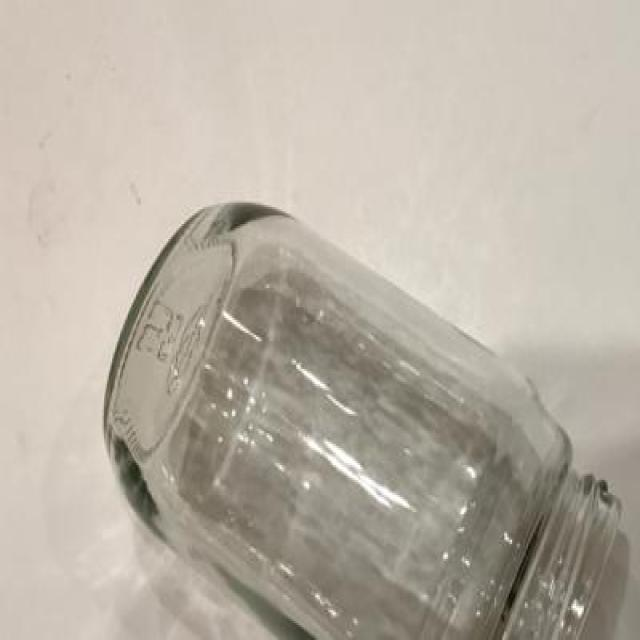glass: (99, 187, 628, 640)
